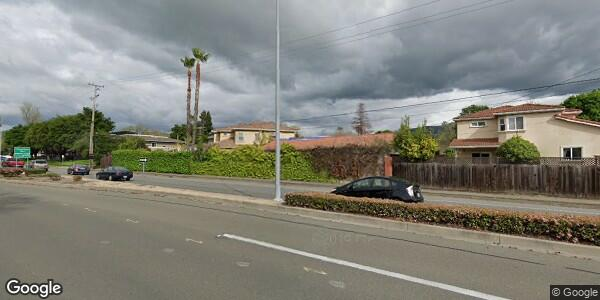Steel_Pole: (272, 1, 284, 200)
Wood_Pole: (85, 81, 104, 157)
